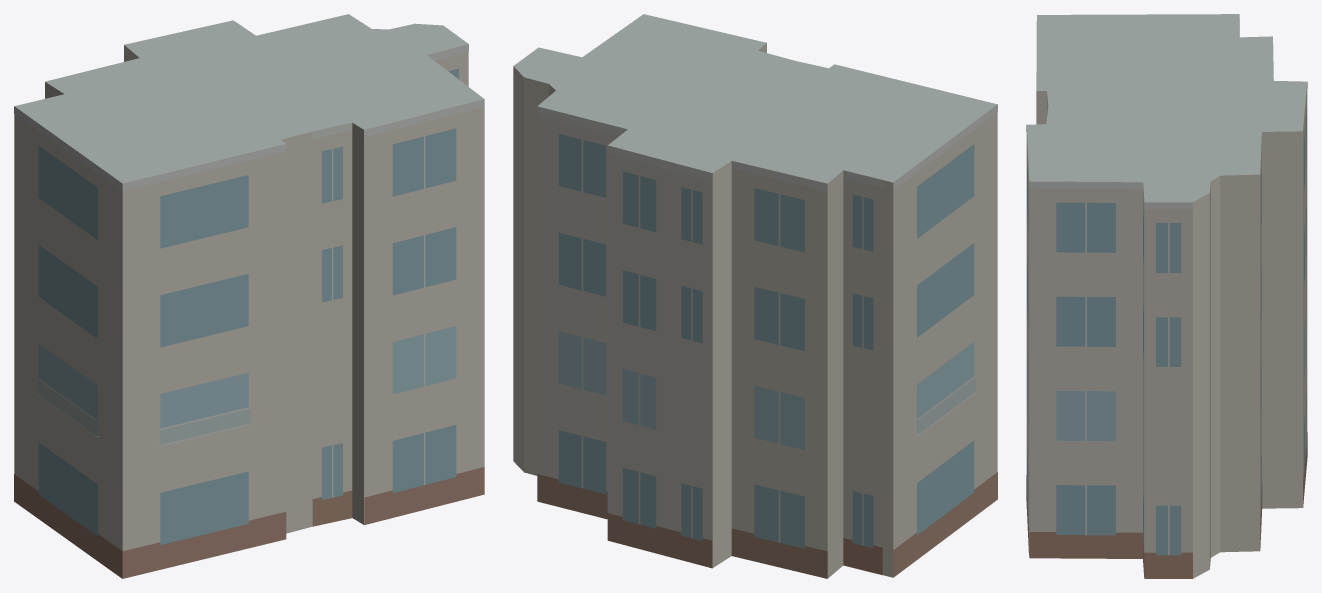
File: survey-upis-32659328.glb
3 views of the same model, side by side, from view 1: azimuth 30°, elevation 25°; view 2: azimuth 150°, elevation 25°; view 3: azimuth 270°, elevation 25° (orthographic). The views are drawn at different scales.
Visible parts, largest first — view 1: survey-upis-32659328.tmp; view 2: survey-upis-32659328.tmp; view 3: survey-upis-32659328.tmp.
Boxes of the visible parts, x1=… form: survey-upis-32659328.tmp: x1=14, y1=14, x2=484, y2=578; survey-upis-32659328.tmp: x1=513, y1=14, x2=997, y2=578; survey-upis-32659328.tmp: x1=1026, y1=14, x2=1307, y2=578.
Size of the model in its own units: 13.48 by 12.55 by 8.48.
